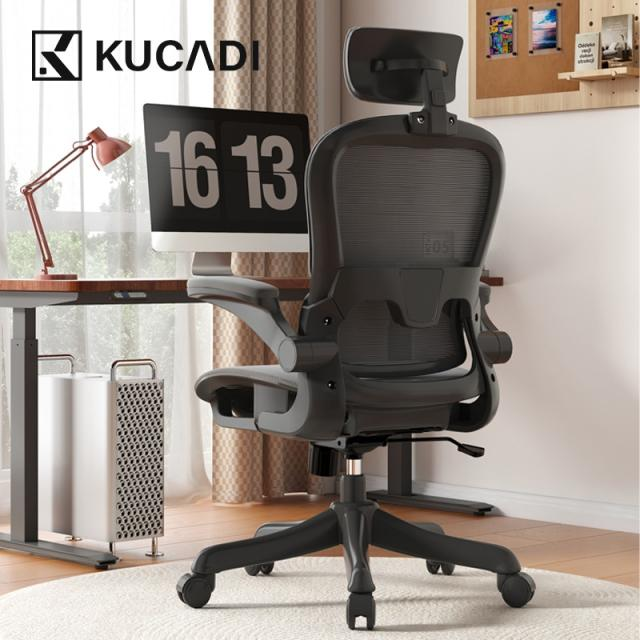Chair: (156, 27, 562, 635)
